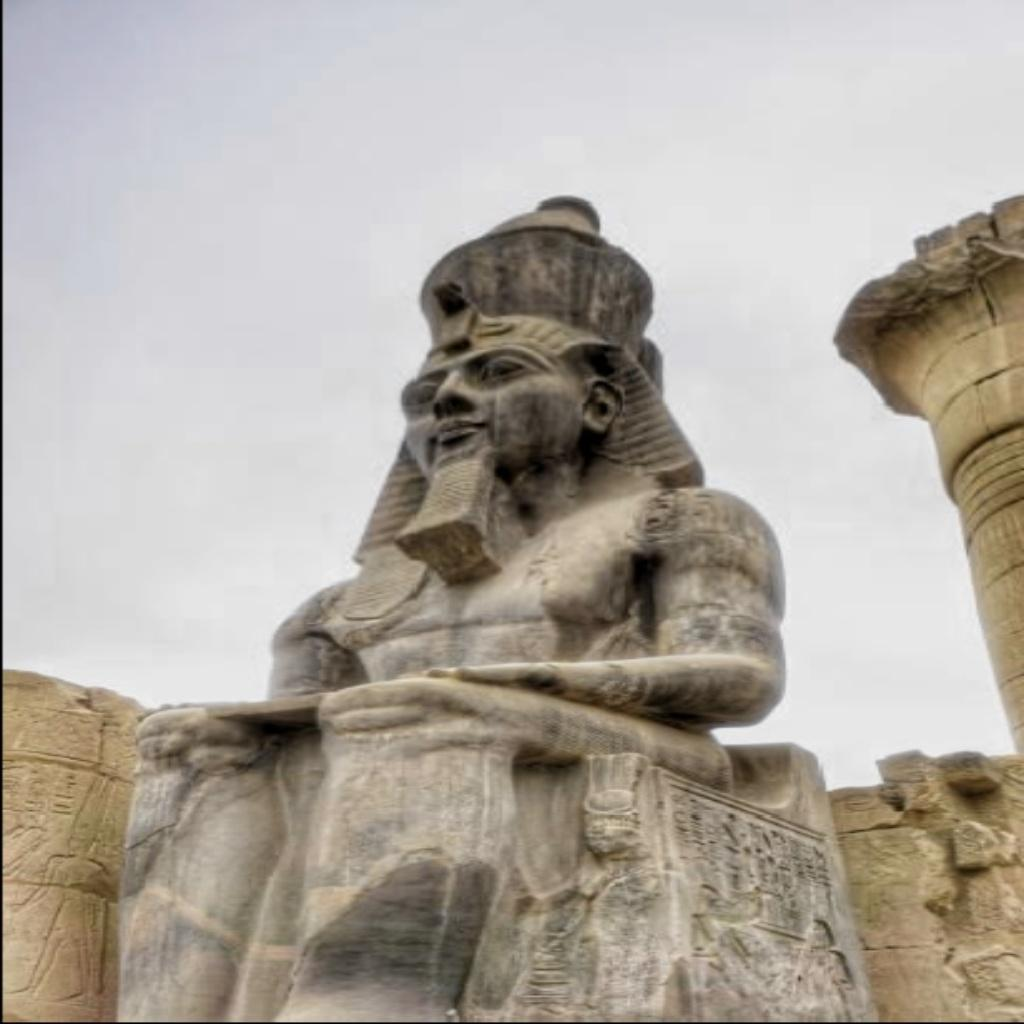Statue of King Ramses II Luxor Temple: (130, 192, 796, 1020)
